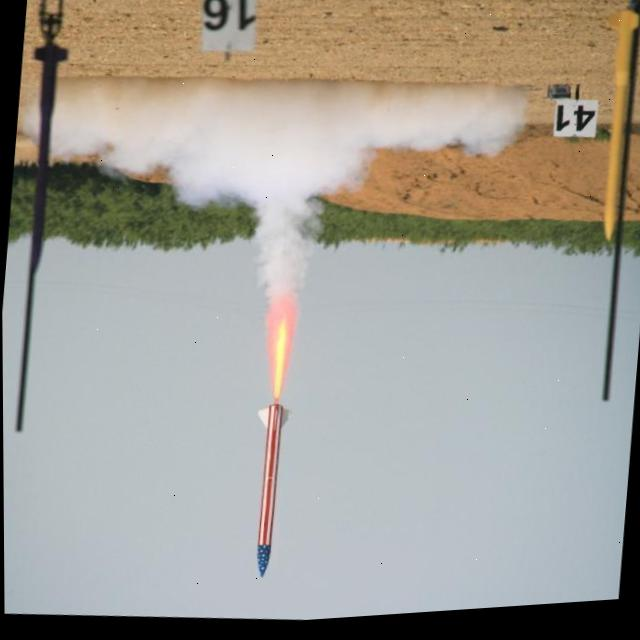missile: (243, 404, 293, 585)
